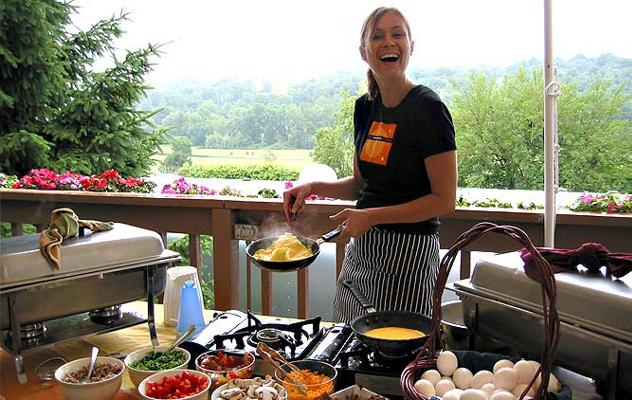person: (288, 7, 460, 329)
